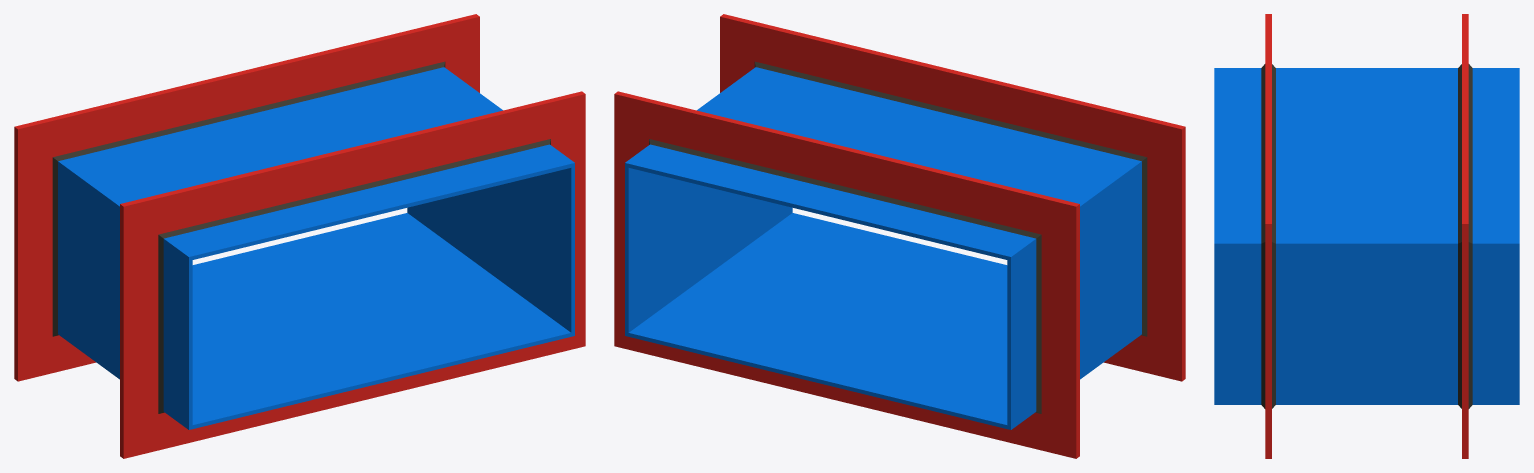
The model's file is rectangular-sleeve.gltf.
3 views of the same model, side by side, from view 1: azimuth 30°, elevation 25°; view 2: azimuth 150°, elevation 25°; view 3: azimuth 270°, elevation 25° (orthographic). The views are drawn at different scales.
Parts seen in each view (by area): view 1: 拉伸 [226368], 拉伸 [226396], 拉伸 [226407], 放样 [226456], 放样 [226438]; view 2: 拉伸 [226368], 拉伸 [226407], 拉伸 [226396], 放样 [226424], 放样 [226470]; view 3: 拉伸 [226368], 拉伸 [226396], 拉伸 [226407], 放样 [226438], 放样 [226470], 放样 [226424], 放样 [226456].
Part boxes in pixels (left/top/right/bottom): 拉伸 [226368]: left=58, top=67, right=574, bottom=429; 拉伸 [226396]: left=120, top=91, right=585, bottom=458; 拉伸 [226407]: left=14, top=14, right=479, bottom=381; 放样 [226456]: left=52, top=61, right=445, bottom=336; 放样 [226438]: left=158, top=139, right=550, bottom=413; 拉伸 [226368]: left=625, top=67, right=1141, bottom=429; 拉伸 [226407]: left=614, top=91, right=1079, bottom=458; 拉伸 [226396]: left=720, top=14, right=1185, bottom=381; 放样 [226424]: left=754, top=61, right=1147, bottom=336; 放样 [226470]: left=649, top=139, right=1041, bottom=413; 拉伸 [226368]: left=1214, top=68, right=1519, bottom=404; 拉伸 [226396]: left=1265, top=14, right=1271, bottom=458; 拉伸 [226407]: left=1462, top=14, right=1468, bottom=458; 放样 [226438]: left=1261, top=64, right=1265, bottom=408; 放样 [226470]: left=1468, top=64, right=1472, bottom=408; 放样 [226424]: left=1272, top=64, right=1275, bottom=408; 放样 [226456]: left=1458, top=64, right=1461, bottom=408.
Size of the model in its own units: 1.46 by 0.764 by 0.9.
